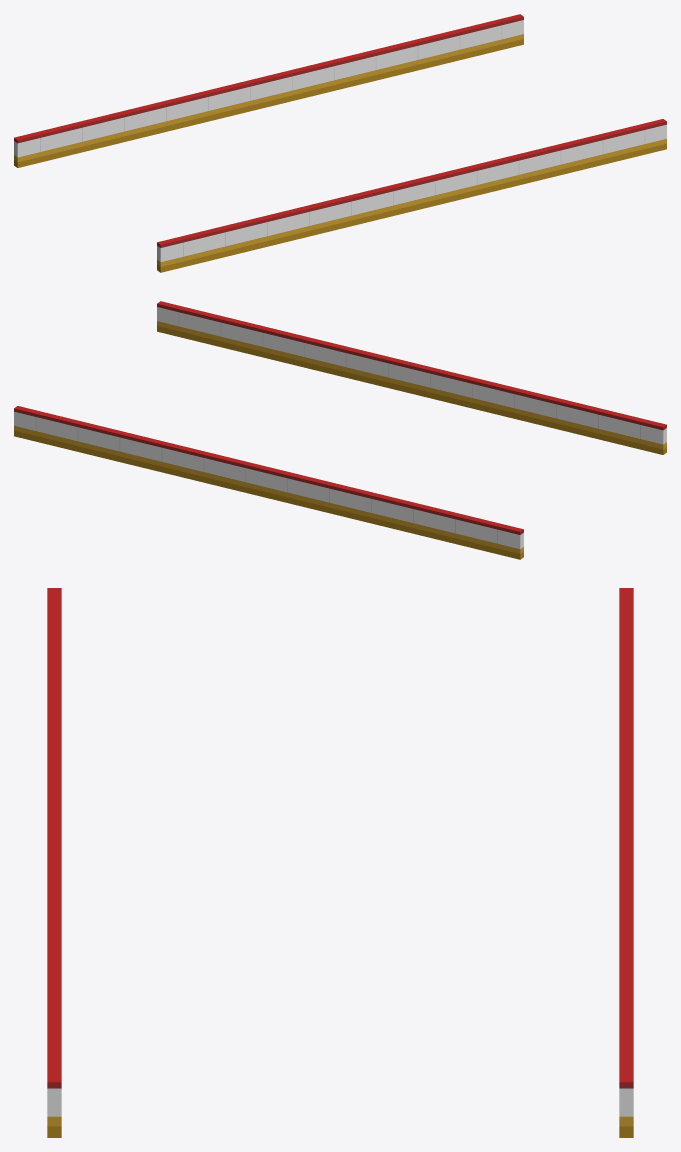
Rendered from WhiteboxForColossalKickoffb.fbx.
3 views of the same model, one above another, from view 1: azimuth 30°, elevation 25°; view 2: azimuth 150°, elevation 25°; view 3: azimuth 270°, elevation 25° (orthographic). The views are drawn at different scales.
Parts seen in each view (by area): view 1: Cube.007, Cube.008; view 2: Cube.007, Cube.008; view 3: Cube.007, Cube.008.
Boxes of the visible parts, x1,y1,x2,y2 form: Cube.007: [157, 119, 666, 272]; Cube.008: [14, 14, 523, 167]; Cube.007: [157, 301, 666, 454]; Cube.008: [14, 406, 523, 559]; Cube.007: [47, 588, 61, 1137]; Cube.008: [619, 588, 633, 1137].
Size of the model in its own units: 2352 by 124 by 1180.
